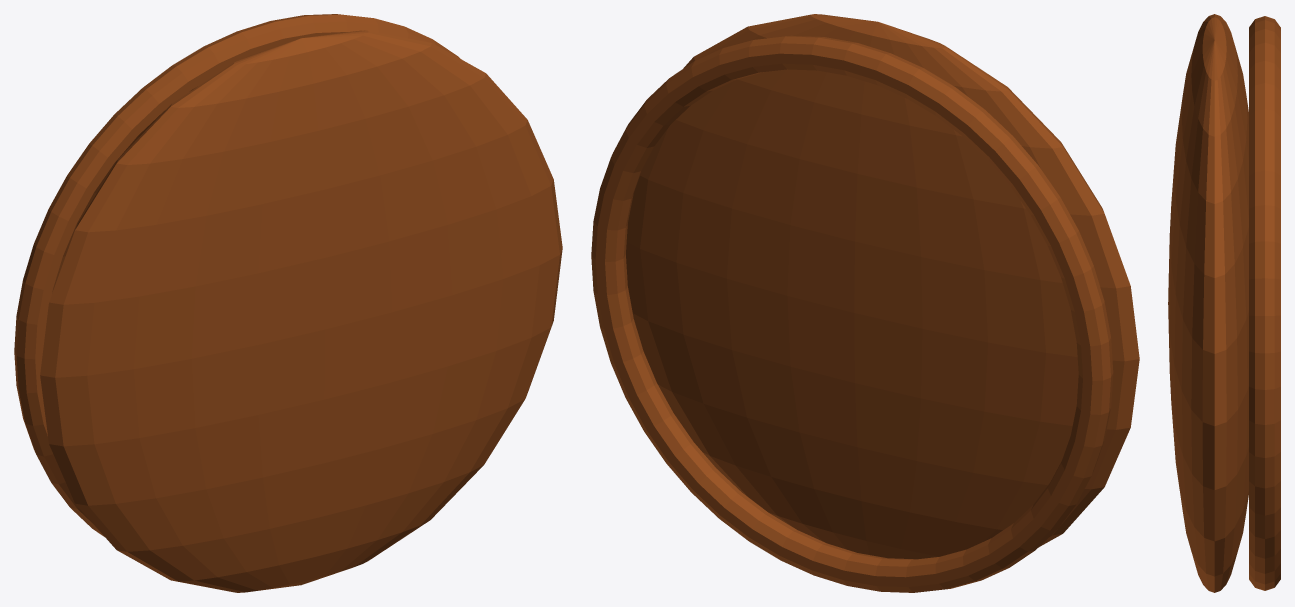
Rendered from aspis_reinforced_elite_LOD1.glb.
3 views of the same model, side by side, from view 1: azimuth 30°, elevation 25°; view 2: azimuth 150°, elevation 25°; view 3: azimuth 270°, elevation 25° (orthographic). The views are drawn at different scales.
Parts seen in each view (by area): view 1: LOD1_Aspis, LOD1_Rim; view 2: LOD1_Aspis, LOD1_Rim; view 3: LOD1_Aspis, LOD1_Rim.
Part boxes in pixels (bbox=[...]): LOD1_Aspis: bbox=[40, 30, 562, 592]; LOD1_Rim: bbox=[14, 14, 460, 536]; LOD1_Aspis: bbox=[626, 14, 1139, 559]; LOD1_Rim: bbox=[591, 35, 1113, 592]; LOD1_Aspis: bbox=[1168, 14, 1248, 592]; LOD1_Rim: bbox=[1249, 16, 1280, 590].
Bounding box in the file's own units: 1.04 × 1.04 × 0.2017.
